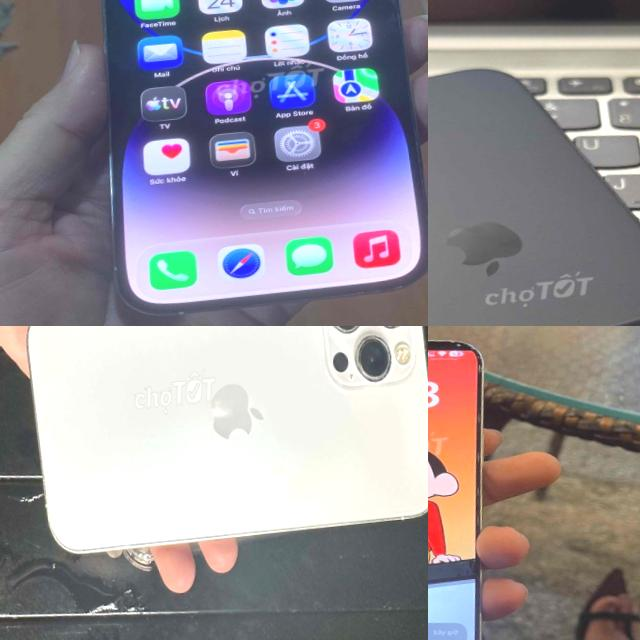gen_12_13: (19, 326, 428, 567)
gen_14: (61, 0, 428, 324)
gen_15: (428, 27, 640, 326), (428, 326, 525, 640)
